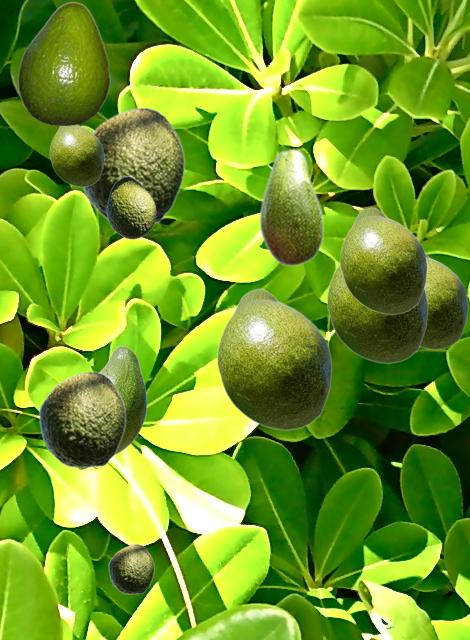avocado: (216, 288, 331, 430), (80, 107, 184, 224), (17, 1, 109, 124), (326, 264, 427, 363), (339, 207, 426, 314), (38, 371, 125, 467), (259, 147, 323, 266), (99, 345, 146, 454), (421, 252, 467, 349), (49, 125, 103, 186), (106, 176, 155, 238), (108, 544, 153, 593)
